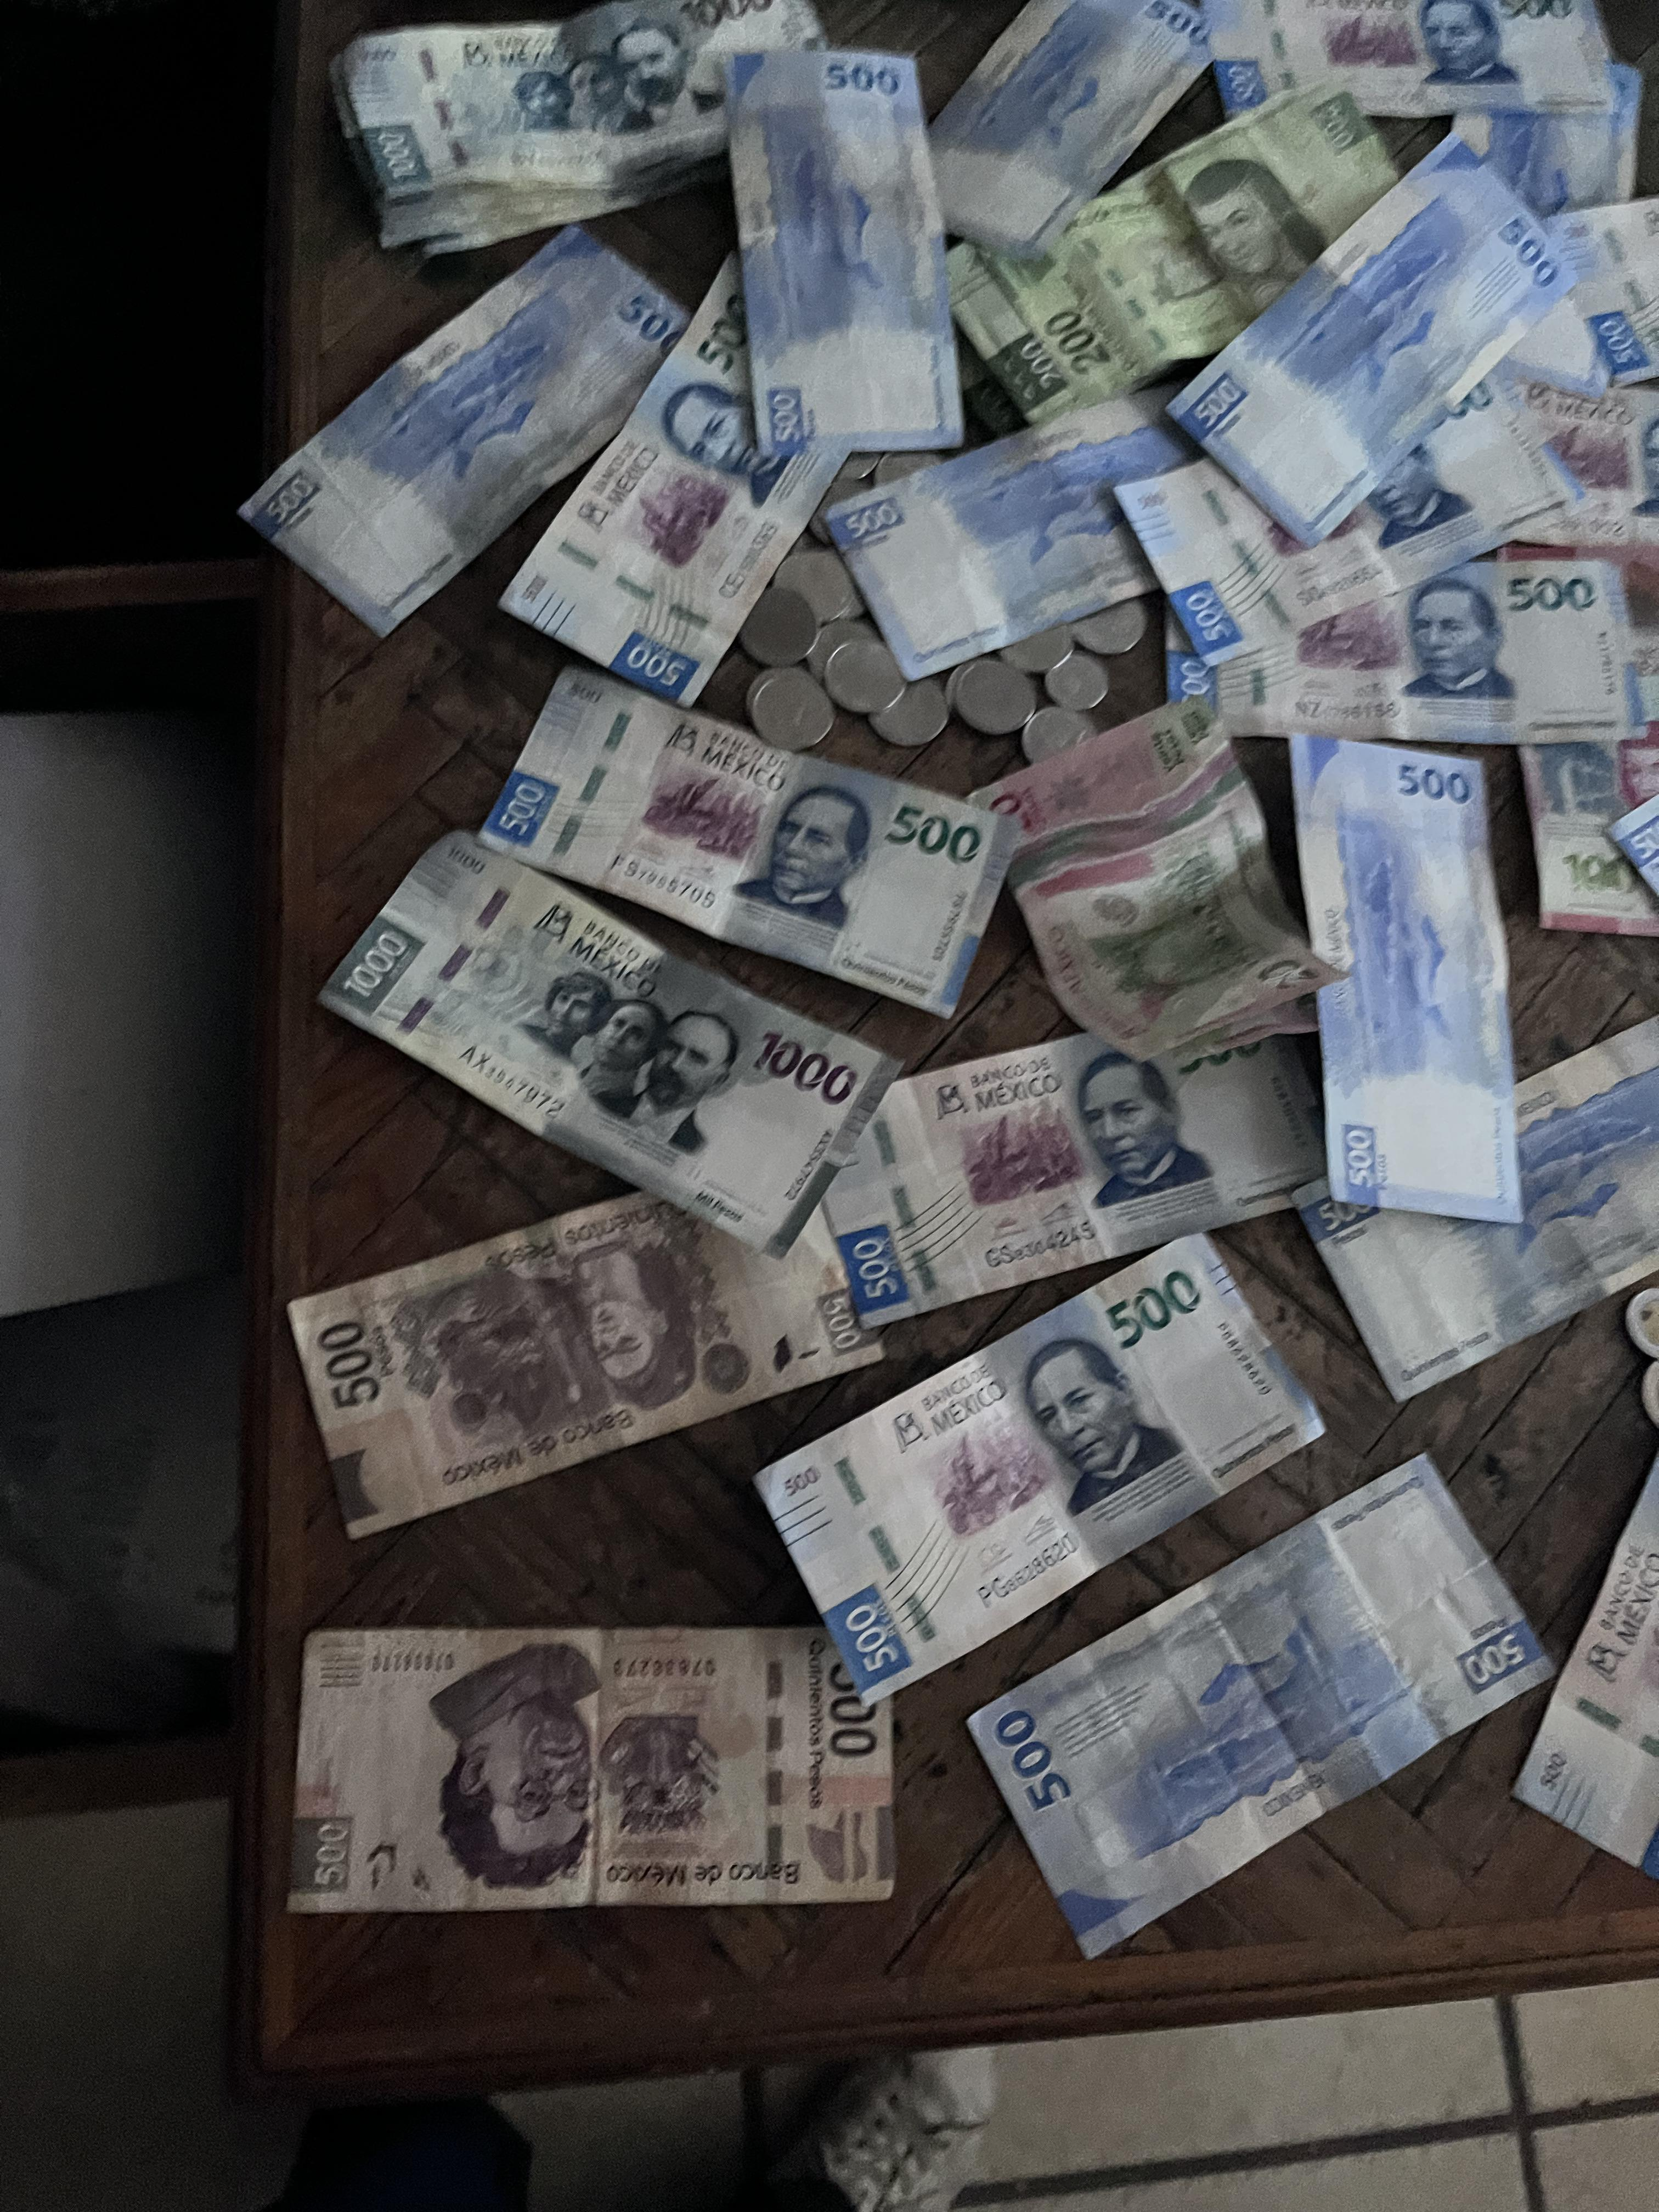100: (1528, 491, 1659, 948)
1000: (329, 815, 904, 1245), (359, 0, 856, 263)
20: (957, 707, 1377, 1050)
200: (918, 87, 1434, 416)
500: (263, 1163, 934, 1548), (277, 1599, 922, 1940)
500 nuevo: (960, 1449, 1560, 1963), (749, 1224, 1321, 1714), (249, 206, 741, 646), (1131, 99, 1603, 543), (471, 662, 1023, 1021), (479, 266, 951, 650), (782, 1021, 1399, 1306), (1279, 711, 1575, 1244), (673, 23, 1004, 489), (1291, 1007, 1659, 1421), (850, 385, 1263, 726), (1119, 521, 1650, 772), (861, 0, 1244, 253), (1157, 0, 1659, 96)
